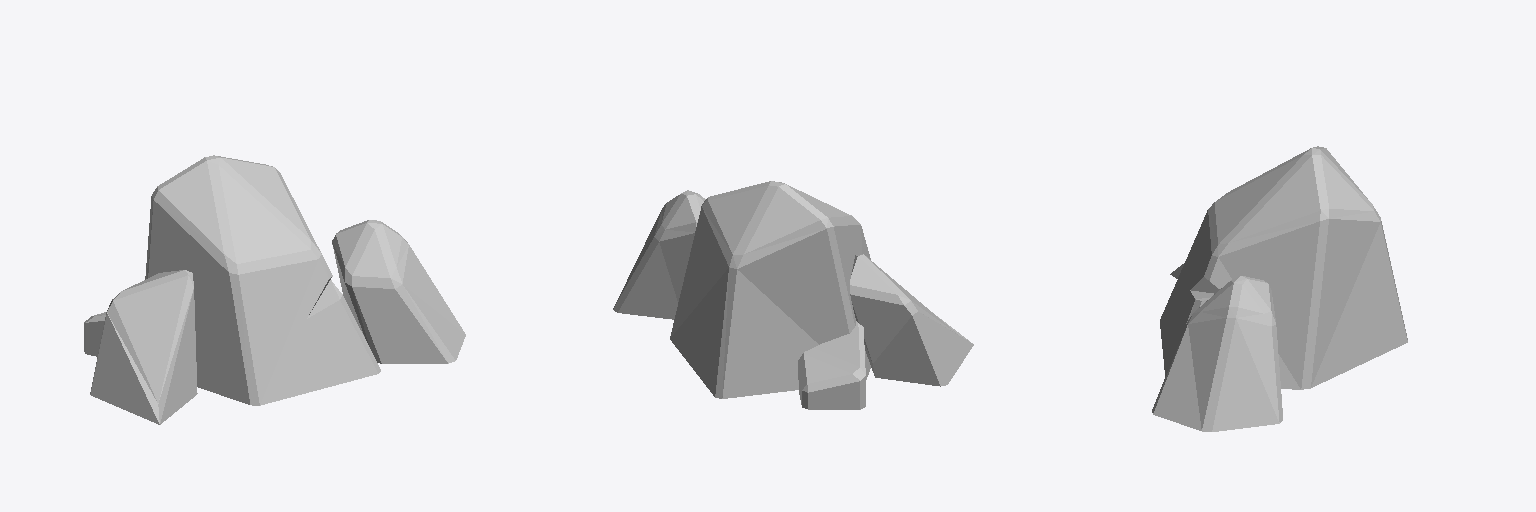
File: rock.obj
3 renders of one model, left to right at view 1: azimuth 30°, elevation 25°; view 2: azimuth 150°, elevation 25°; view 3: azimuth 270°, elevation 25°, orthographic.
Parts seen in each view (by area): view 1: stone; view 2: stone; view 3: stone.
Part boxes in pixels (bbox=[...]): stone: bbox=[84, 155, 465, 424]; stone: bbox=[613, 181, 973, 409]; stone: bbox=[1152, 146, 1407, 431].
Bounding box in the file's own units: 2.01 × 1.02 × 1.29.